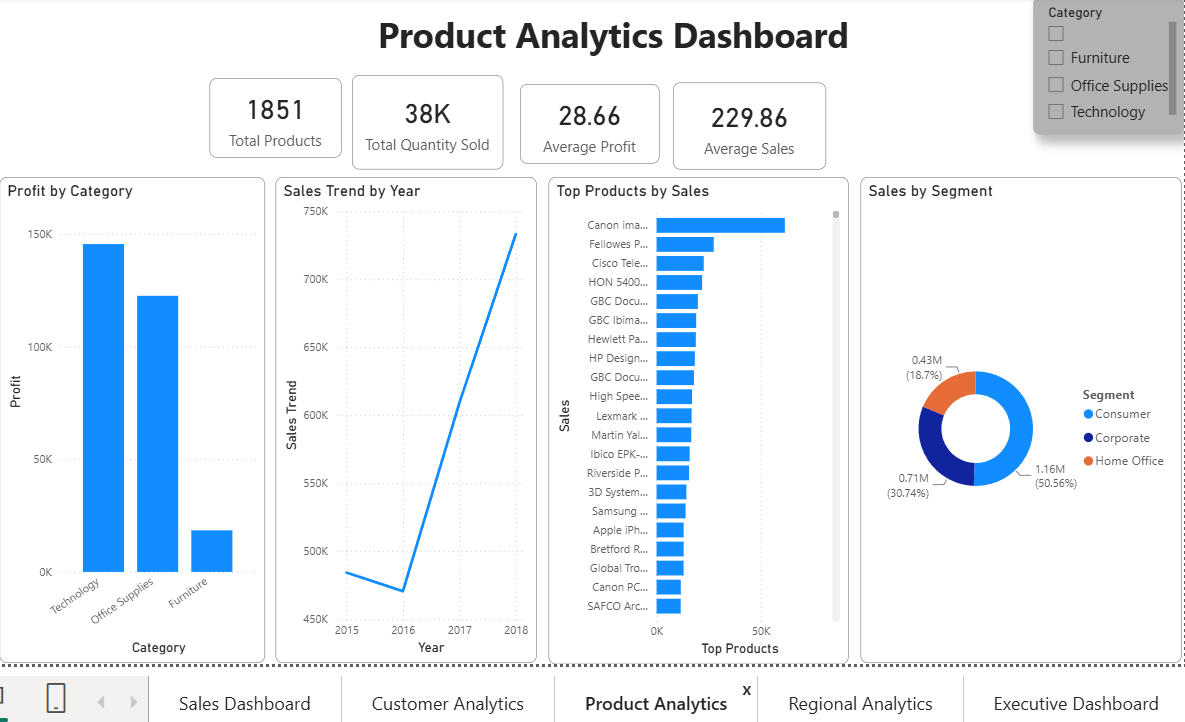

The dashboard page shown, as its layout file describes it:
{"tool":"powerbi","page":{"name":"Product Analytics","canvas":[1280,720],"ordinal":2},"visuals":[{"type":"card","fields":{"Values":["Count(superstore.Product Name)"]},"box":[228.3,87.4,142.5,85.8],"z":0},{"type":"card","fields":{"Values":["Sum(superstore.Quantity)"]},"box":[382.1,84.2,163.5,102],"z":1000},{"type":"card","fields":{"Values":["Avg(superstore.Profit)"]},"box":[563.5,93.9,150.6,85.8],"z":2000},{"type":"card","fields":{"Values":["Avg(superstore.Sales)"]},"box":[728.7,92.3,165.2,93.9],"z":3000},{"type":"clusteredBarChart","fields":{"Category":["superstore.Product Name"],"Y":["Sum(superstore.Sales)"]},"box":[594.3,194.3,323.8,526.2],"z":4000},{"type":"clusteredColumnChart","fields":{"Category":["superstore.Category"],"Y":["Sum(superstore.Profit)"]},"box":[1.6,194.3,286.6,524.6],"z":5000},{"type":"lineChart","fields":{"Category":["superstore.Order Date.Variation.Date Hierarchy.Year","superstore.Order Date.Variation.Date Hierarchy.Quarter","superstore.Order Date.Variation.Date Hierarchy.Month","superstore.Order Date.Variation.Date Hierarchy.Day"],"Y":["Sum(superstore.Sales)"]},"box":[299.6,194.3,281.7,524.6],"z":6000},{"type":"donutChart","fields":{"Category":["superstore.Segment"],"Y":["Sum(superstore.Sales)"]},"box":[931.1,194.3,346.5,524.6],"z":7000},{"type":"textbox","box":[404.8,9.7,536,59.9],"z":8000},{"type":"slicer","fields":{"Values":["superstore.Category"]},"box":[1117.3,0,163.5,149],"z":9000}]}

Visuals, with their boxes on the page's 1280x720 design canvas (x1, y1, x2, y2). These are canvas units, not pixel positions in the 1185x722 screenshot, which may show the page scaled, cropped or inside an application window:
card - Count(superstore.Product Name): (228,87,371,173)
card - Sum(superstore.Quantity): (382,84,546,186)
card - Avg(superstore.Profit): (564,94,714,180)
card - Avg(superstore.Sales): (729,92,894,186)
clusteredBarChart - superstore.Product Name x Sum(superstore.Sales): (594,194,918,720)
clusteredColumnChart - superstore.Category x Sum(superstore.Profit): (2,194,288,719)
lineChart - superstore.Order Date.Variation.Date Hierarchy.Year x superstore.Order Date.Variation.Date Hierarchy.Quarter: (300,194,581,719)
donutChart - superstore.Segment x Sum(superstore.Sales): (931,194,1278,719)
textbox: (405,10,941,70)
slicer - superstore.Category: (1117,0,1281,149)
